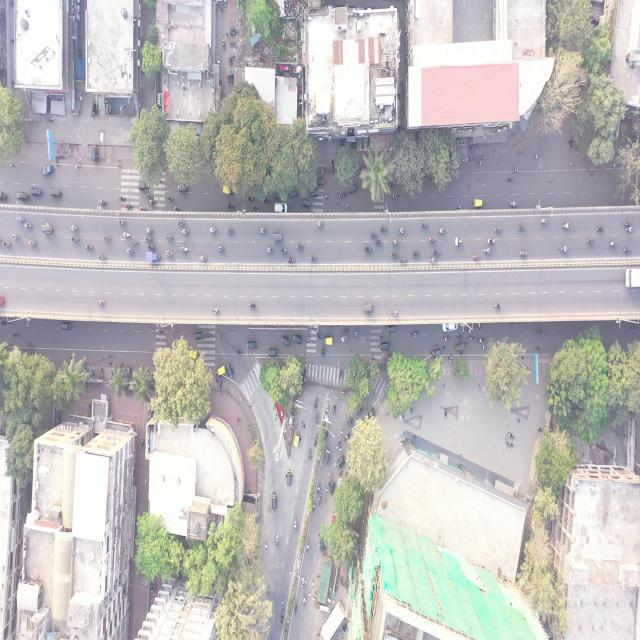3W: (193, 331, 205, 342), (286, 468, 292, 488), (294, 432, 301, 449), (225, 364, 233, 378), (218, 362, 225, 378), (324, 450, 331, 466), (17, 190, 27, 201), (31, 186, 42, 196), (363, 303, 374, 313), (267, 347, 277, 358), (337, 456, 346, 468), (329, 478, 335, 495), (176, 183, 186, 193), (380, 341, 390, 351), (60, 322, 70, 332), (281, 336, 290, 347), (473, 199, 483, 208), (311, 189, 320, 199), (246, 342, 256, 351), (293, 334, 302, 344), (455, 342, 464, 352), (432, 349, 441, 359), (324, 337, 332, 348), (386, 326, 395, 335), (138, 182, 148, 190), (317, 177, 325, 186), (302, 198, 310, 206), (206, 333, 213, 341), (216, 331, 222, 340)
Cars: (443, 324, 459, 331), (272, 232, 282, 242)
LCV: (146, 251, 159, 264), (41, 165, 53, 176)
M2W: (41, 224, 54, 235), (272, 492, 277, 513), (11, 231, 20, 241), (2, 240, 13, 248), (280, 610, 286, 624), (453, 238, 462, 247), (117, 218, 127, 226), (179, 245, 189, 253), (217, 243, 225, 253), (560, 244, 568, 254), (622, 218, 632, 226), (492, 302, 502, 310), (442, 333, 450, 343), (28, 240, 37, 248), (126, 247, 135, 255), (199, 254, 208, 262), (211, 306, 220, 314), (623, 246, 632, 254), (625, 226, 634, 234), (164, 234, 174, 241), (482, 247, 492, 254), (293, 517, 298, 531), (315, 412, 320, 425), (71, 235, 79, 243), (98, 198, 106, 206), (123, 231, 131, 239), (177, 219, 185, 227), (209, 226, 217, 234), (248, 301, 256, 309), (280, 246, 288, 254), (316, 219, 324, 227), (380, 225, 388, 233), (519, 250, 527, 258), (597, 225, 605, 233), (609, 239, 617, 247), (308, 446, 312, 462), (15, 216, 24, 223), (23, 223, 32, 230), (85, 244, 94, 251), (397, 227, 406, 234), (517, 224, 526, 231), (165, 195, 174, 202), (130, 239, 140, 245), (144, 193, 154, 199), (314, 432, 318, 447), (306, 540, 311, 552), (102, 235, 110, 242), (117, 194, 125, 201), (165, 250, 173, 257), (182, 227, 189, 235), (365, 245, 372, 253), (369, 232, 377, 239), (375, 238, 383, 245), (420, 221, 428, 228), (412, 250, 420, 257), (428, 236, 436, 243), (437, 227, 445, 234), (429, 256, 436, 264), (391, 309, 398, 317), (487, 238, 495, 245), (586, 237, 594, 244), (467, 335, 475, 342), (316, 484, 321, 495), (144, 236, 153, 242), (260, 226, 266, 235), (286, 258, 295, 264), (315, 397, 319, 410), (345, 430, 349, 443), (293, 602, 297, 615), (99, 254, 106, 261), (266, 246, 273, 253), (392, 238, 399, 245), (391, 250, 398, 257), (400, 256, 407, 263), (510, 200, 517, 207), (411, 331, 418, 338), (126, 202, 132, 210), (145, 228, 153, 234), (147, 245, 155, 251), (310, 254, 316, 262), (433, 248, 441, 254), (472, 254, 480, 260), (540, 217, 548, 223), (513, 167, 521, 173), (227, 203, 235, 209), (148, 199, 156, 205), (354, 328, 358, 340), (333, 401, 337, 413), (301, 577, 305, 589), (389, 183, 395, 191), (276, 532, 279, 547), (265, 539, 268, 554), (71, 226, 78, 232), (97, 299, 104, 305), (226, 228, 233, 234), (296, 243, 303, 249), (247, 195, 253, 202), (250, 203, 256, 210), (267, 586, 270, 600), (456, 334, 463, 340), (494, 226, 502, 231), (506, 177, 514, 182), (318, 496, 322, 506), (564, 221, 570, 227), (173, 205, 179, 211), (303, 593, 306, 605), (478, 339, 485, 344), (235, 351, 242, 356), (322, 348, 324, 358)
MAV: (51, 187, 62, 197)
